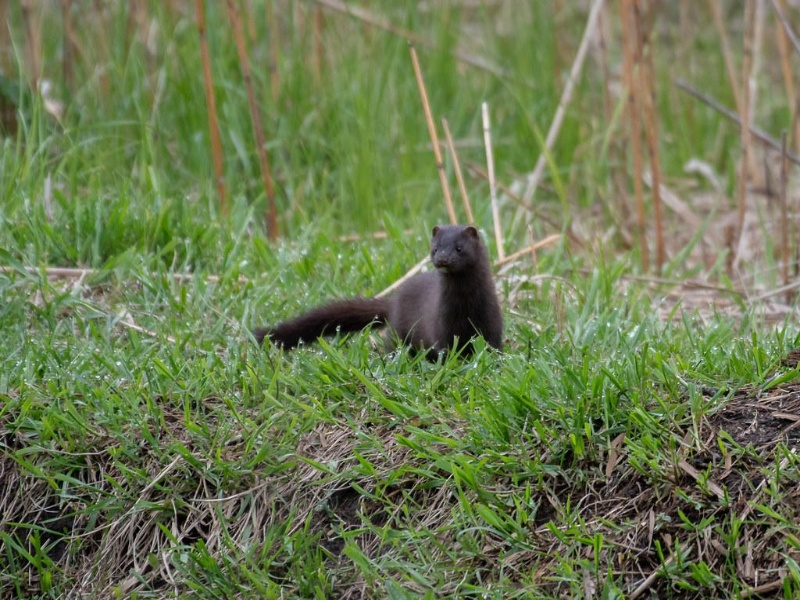minkish: (245, 225, 507, 368)
